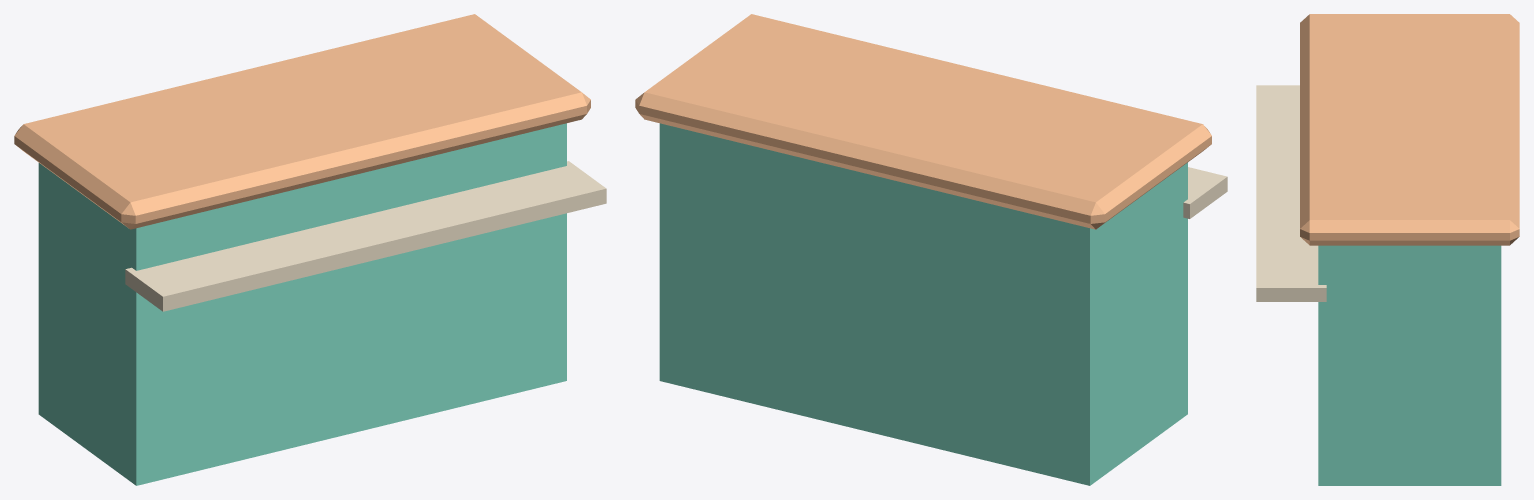
The picture shows the model from 3 angles, left to right: view 1: azimuth 30°, elevation 25°; view 2: azimuth 150°, elevation 25°; view 3: azimuth 270°, elevation 25°; orthographic projection. The views are drawn at different scales.
Visible parts, largest first — view 1: Counter body, Countertop, Visitor shelf; view 2: Counter body, Countertop, Visitor shelf; view 3: Countertop, Counter body, Visitor shelf.
Part boxes in pixels (box(x1,y1,x2,y2)): Counter body: box(38, 123, 566, 485); Countertop: box(14, 14, 590, 229); Visitor shelf: box(125, 161, 606, 311); Counter body: box(659, 123, 1187, 485); Countertop: box(635, 14, 1211, 229); Visitor shelf: box(1183, 167, 1227, 218); Countertop: box(1300, 14, 1519, 245); Counter body: box(1318, 245, 1501, 485); Visitor shelf: box(1256, 85, 1326, 301).
Bounding box in the file's own units: 1.8 × 1.06 × 0.935.
Materials: 1 (1 with a texture image).
